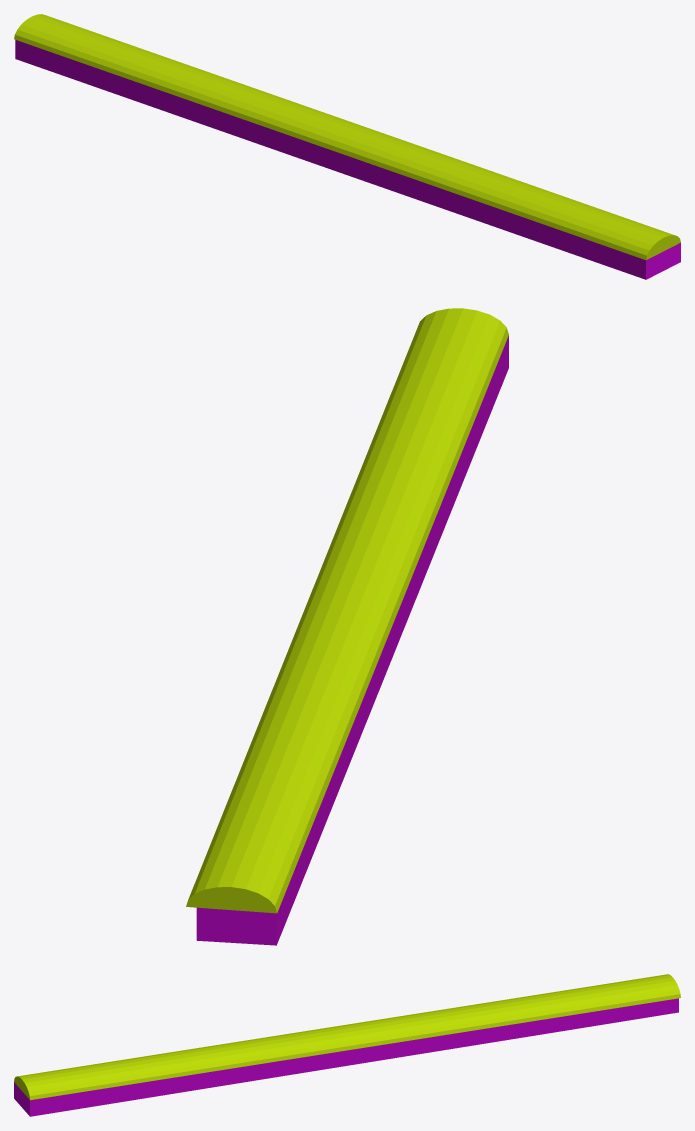
3 views of the same model, one above another, from view 1: azimuth 30°, elevation 25°; view 2: azimuth 150°, elevation 25°; view 3: azimuth 270°, elevation 25° (orthographic). The views are drawn at different scales.
Parts seen in each view (by area): view 1: sc_11; view 2: sc_11; view 3: sc_11.
Boxes of the visible parts, x1=… form: sc_11: x1=14, y1=14, x2=680, y2=279; sc_11: x1=186, y1=308, x2=508, y2=945; sc_11: x1=14, y1=974, x2=680, y2=1116.
Bounding box in the file's own units: 49.27 × 5.36 × 115.
